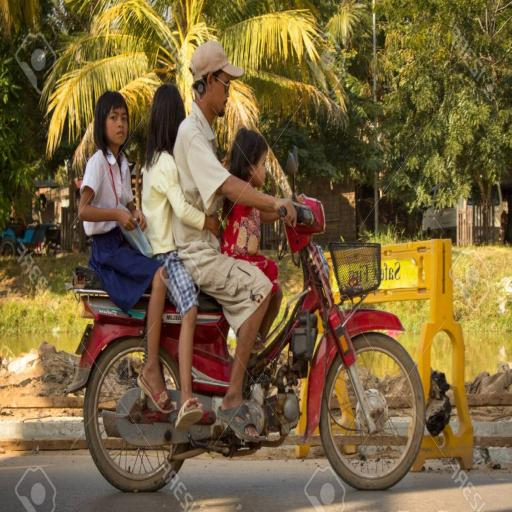overloading: (65, 147, 428, 494), (75, 37, 298, 442)
